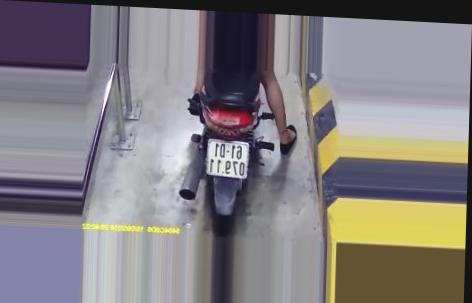License_Plate: (204, 137, 254, 181)
